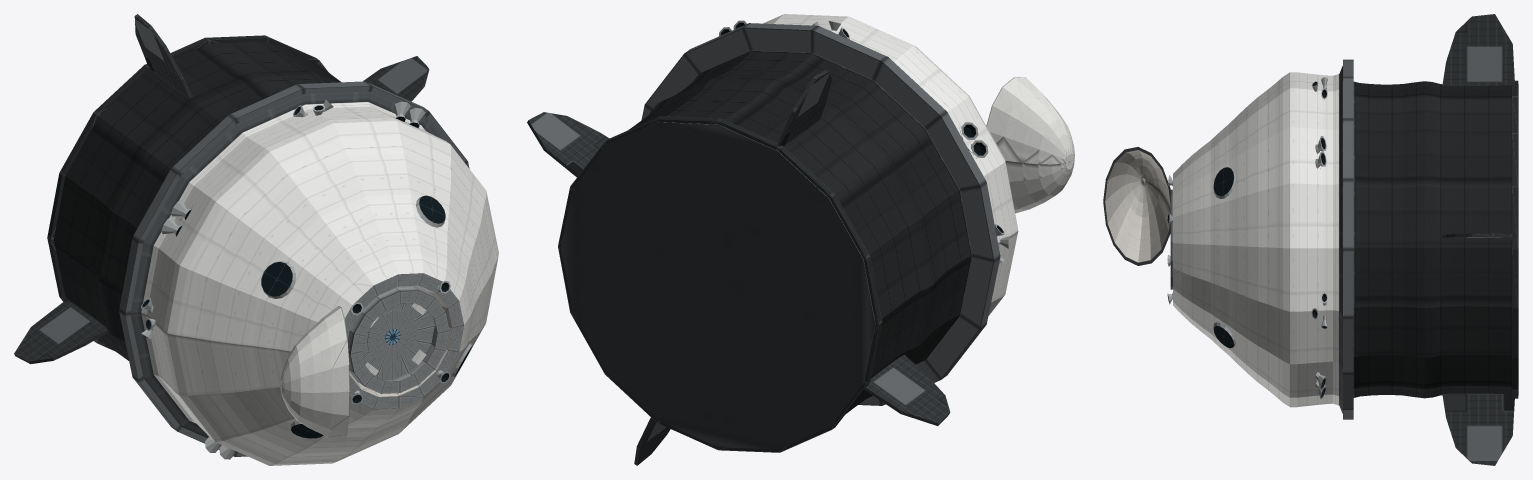
Rendered from MIN_PFL_CrewDragon.obj.
3 views of the same model, side by side, from view 1: azimuth 30°, elevation 25°; view 2: azimuth 150°, elevation 25°; view 3: azimuth 270°, elevation 25° (orthographic). The views are drawn at different scales.
Parts seen in each view (by area): view 1: MIN_PFL_CrewDragon; view 2: MIN_PFL_CrewDragon; view 3: MIN_PFL_CrewDragon.
Part boxes in pixels (bbox=[...]): MIN_PFL_CrewDragon: bbox=[14, 14, 498, 465]; MIN_PFL_CrewDragon: bbox=[527, 14, 1074, 465]; MIN_PFL_CrewDragon: bbox=[1103, 14, 1518, 465].
Size of the model in its own units: 1 by 1 by 1.
1 material, 1 textured.
